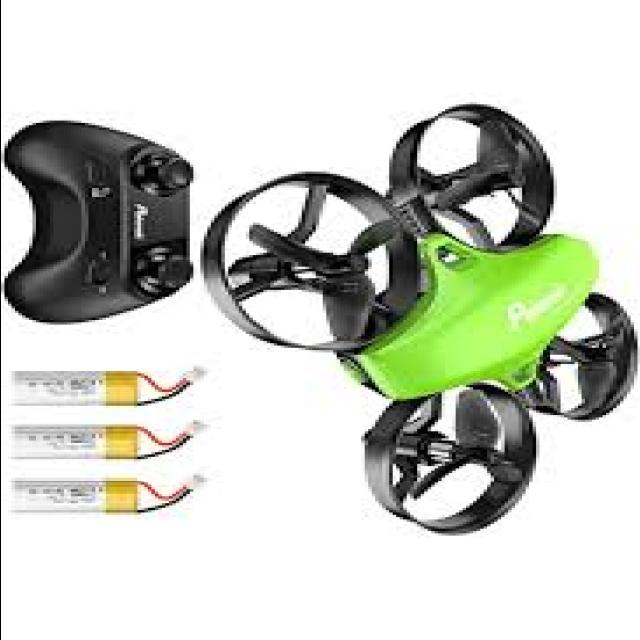drone: (195, 73, 640, 572)
